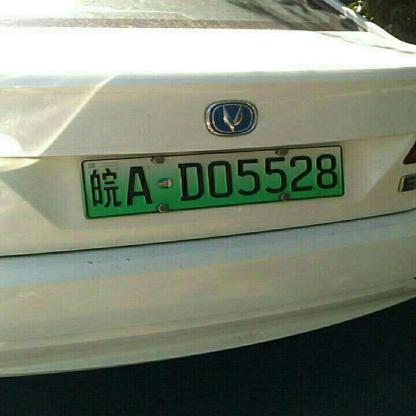lp: (83, 144, 344, 216)
